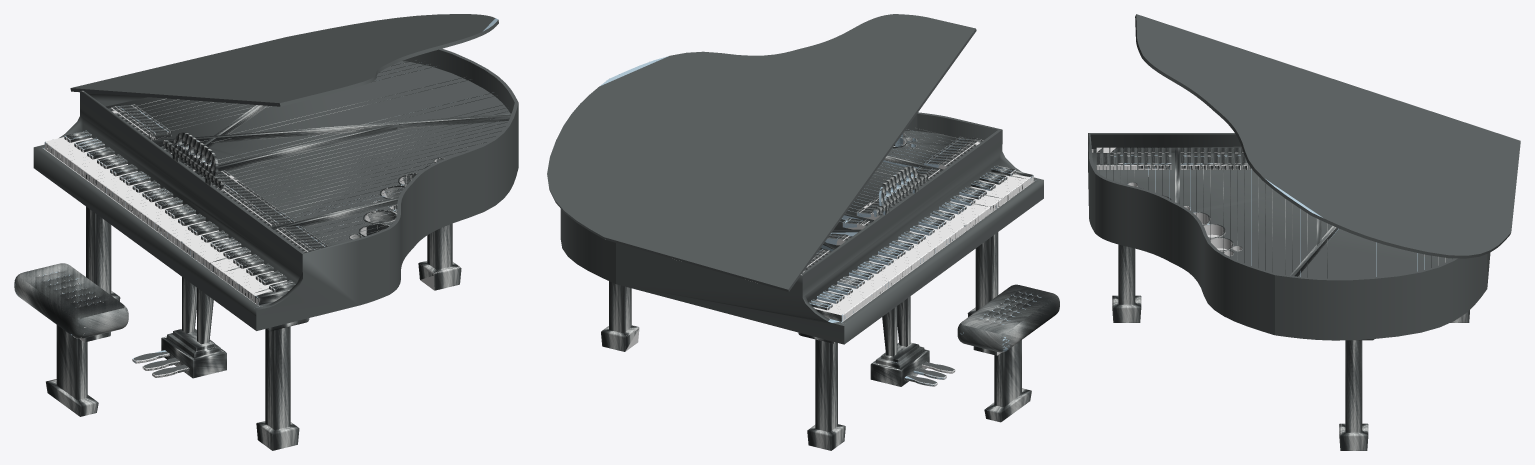
The model's file is pianosilver.glb.
The picture shows the model from 3 angles, left to right: view 1: azimuth 30°, elevation 25°; view 2: azimuth 150°, elevation 25°; view 3: azimuth 270°, elevation 25°; orthographic projection. The views are drawn at different scales.
Parts seen in each view (by area): view 1: BabyGrandPiano1; view 2: BabyGrandPiano1; view 3: BabyGrandPiano1.
Boxes of the visible parts, x1,y1,x2,y2 form: BabyGrandPiano1: (14,14,518,450); BabyGrandPiano1: (547,14,1059,450); BabyGrandPiano1: (1088,14,1520,450).
Size of the model in its own units: 2.35 by 1.57 by 2.01.
Materials: 4 (1 with a texture image).
